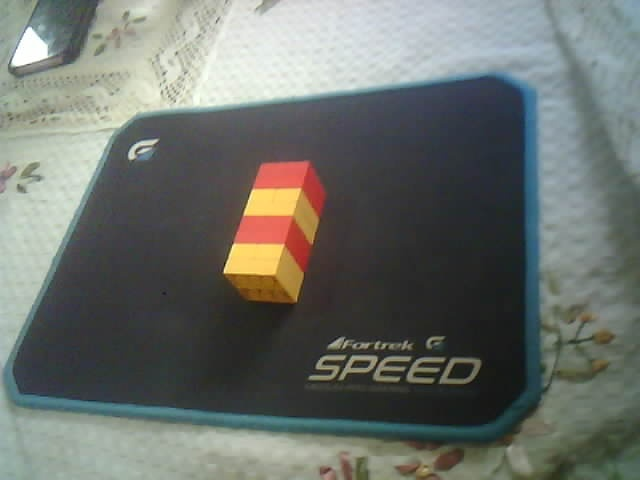lego: (222, 160, 327, 305)
